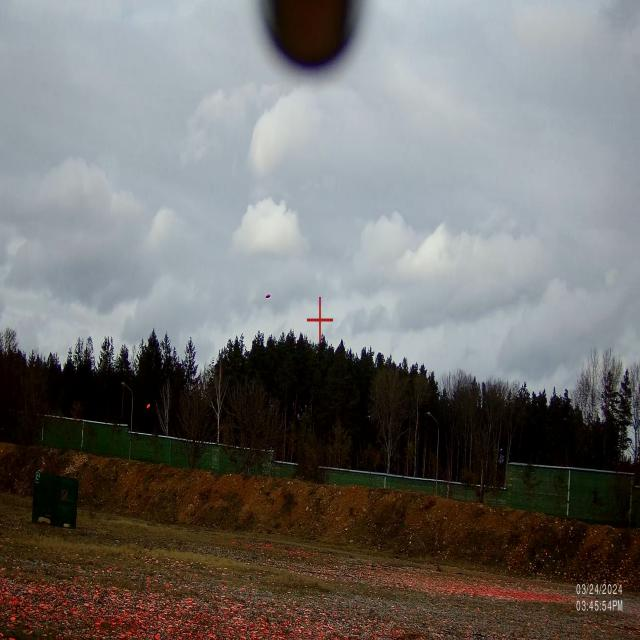entire: (260, 285, 277, 313)
